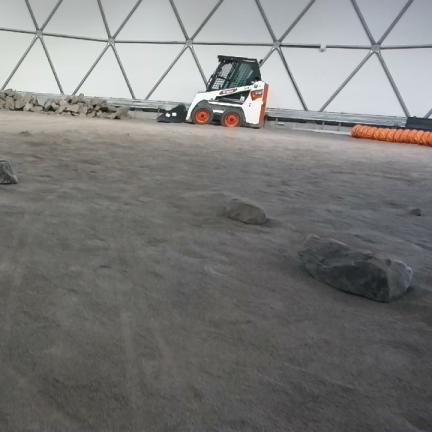Rock: (299, 236, 412, 302), (227, 198, 266, 224), (0, 161, 17, 184), (14, 94, 26, 110), (97, 111, 118, 119), (116, 106, 129, 118), (89, 98, 106, 106), (101, 104, 116, 113), (57, 100, 67, 113), (78, 103, 88, 115), (5, 96, 14, 109), (37, 97, 47, 107), (31, 96, 41, 106), (67, 104, 79, 112), (30, 105, 43, 112), (23, 102, 33, 111), (44, 100, 52, 111), (24, 93, 32, 103), (411, 209, 423, 215), (5, 89, 15, 96), (51, 101, 58, 110), (65, 96, 74, 103), (78, 94, 85, 103), (87, 111, 96, 117), (88, 105, 94, 114), (0, 98, 5, 108), (71, 96, 77, 104), (67, 112, 79, 115), (94, 105, 100, 111), (0, 92, 5, 98)
